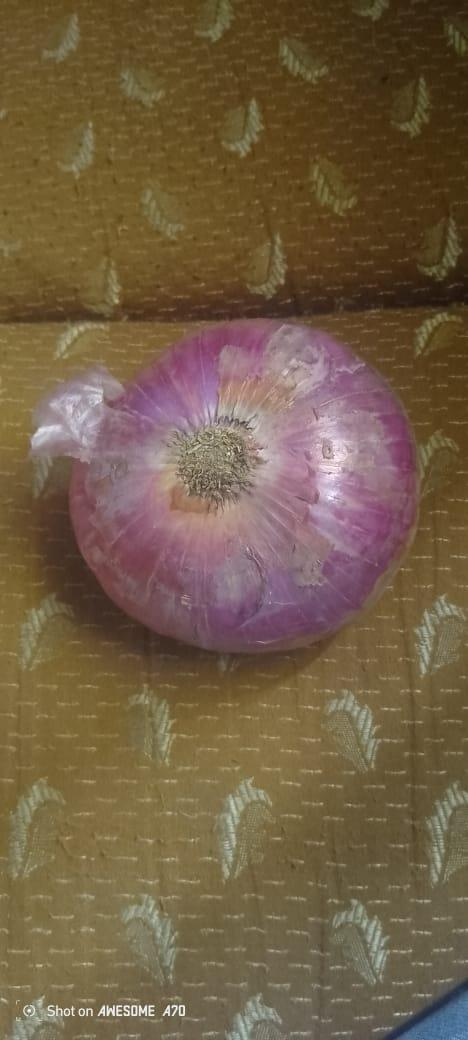non-mango: (70, 321, 411, 647)
